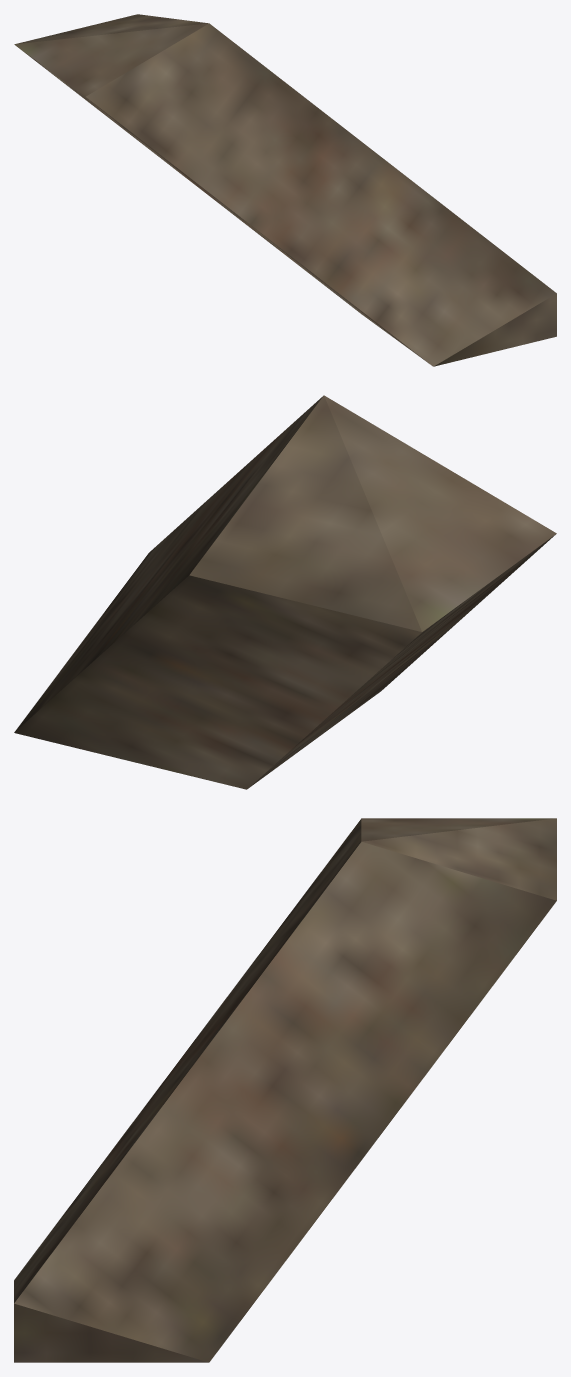
File: whitebeam_branch_45_diagonal.obj
The picture shows the model from 3 angles, top to bottom: view 1: azimuth 30°, elevation 25°; view 2: azimuth 150°, elevation 25°; view 3: azimuth 270°, elevation 25°; orthographic projection. The views are drawn at different scales.
Parts seen in each view (by area): view 1: cube; view 2: cube; view 3: cube.
Boxes of the visible parts, x1,y1,x2,y2 form: cube: (14, 14, 556, 366); cube: (14, 395, 556, 789); cube: (14, 818, 556, 1362).
Bounding box in the file's own units: 1.56 × 1.19 × 1.56.
